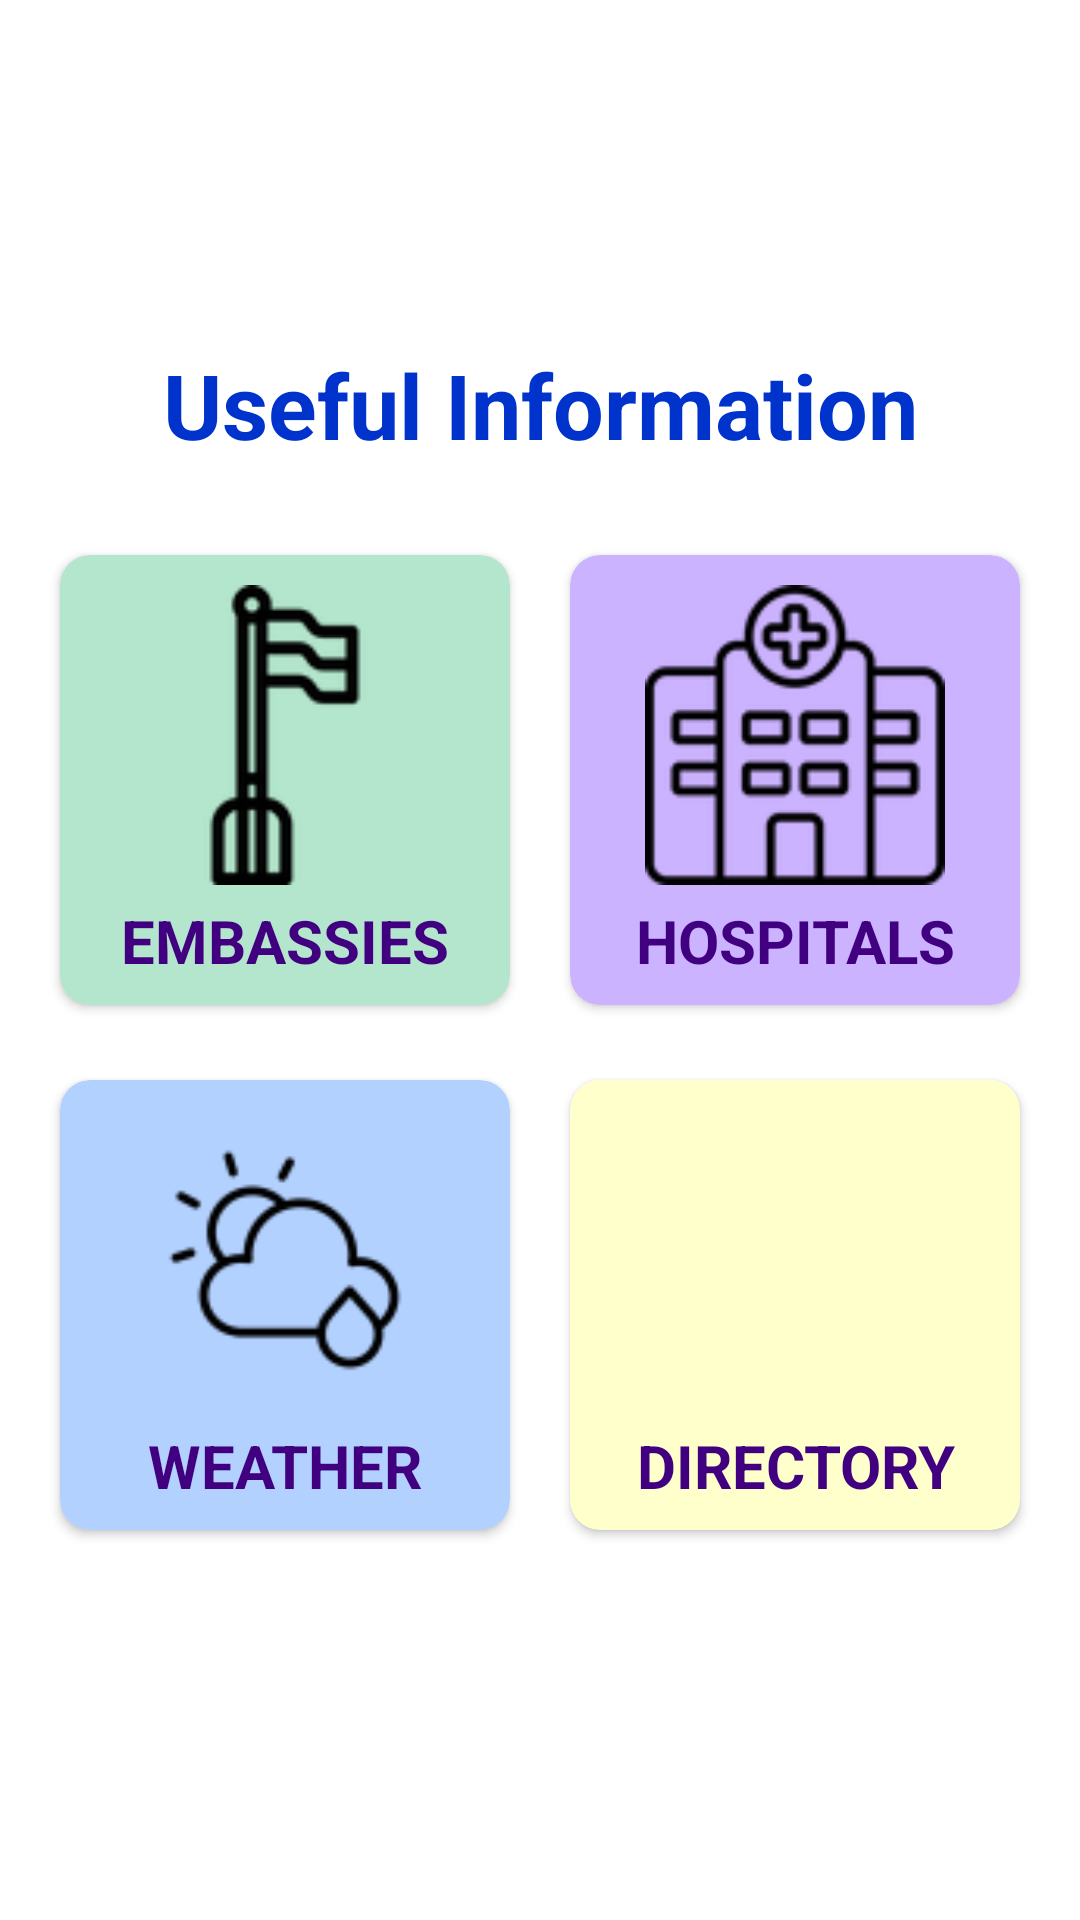

Icon bounding boxes for this 1080px x 1920px phone screenshot, format (x1, y1, x2, y2):
flagpole: (209, 585, 361, 885)
